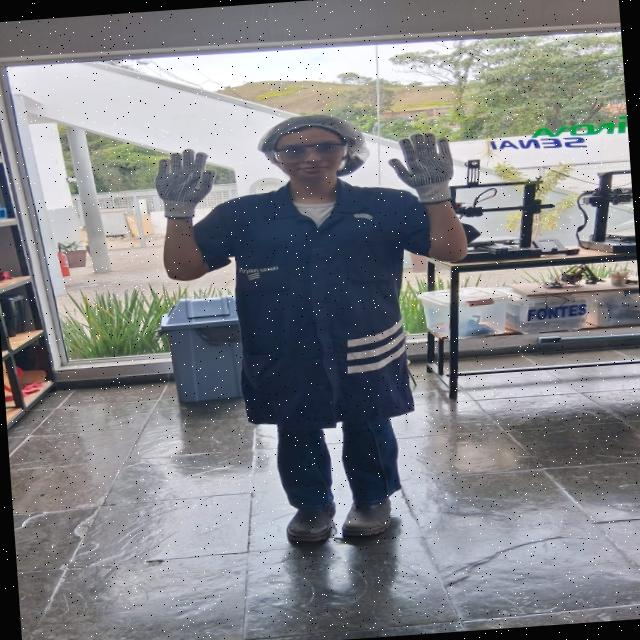BOTA: (286, 491, 337, 544), (346, 493, 396, 534)
JALECO: (184, 171, 485, 430)
LUVA: (146, 145, 216, 221), (385, 130, 458, 202)
OCULOS: (269, 137, 350, 162)
TOUCA: (259, 118, 368, 178)
